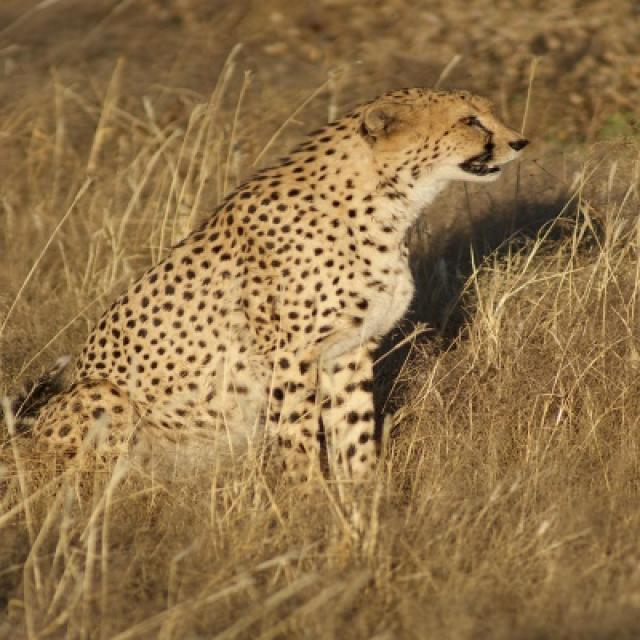Cheetah: (34, 91, 530, 528)
